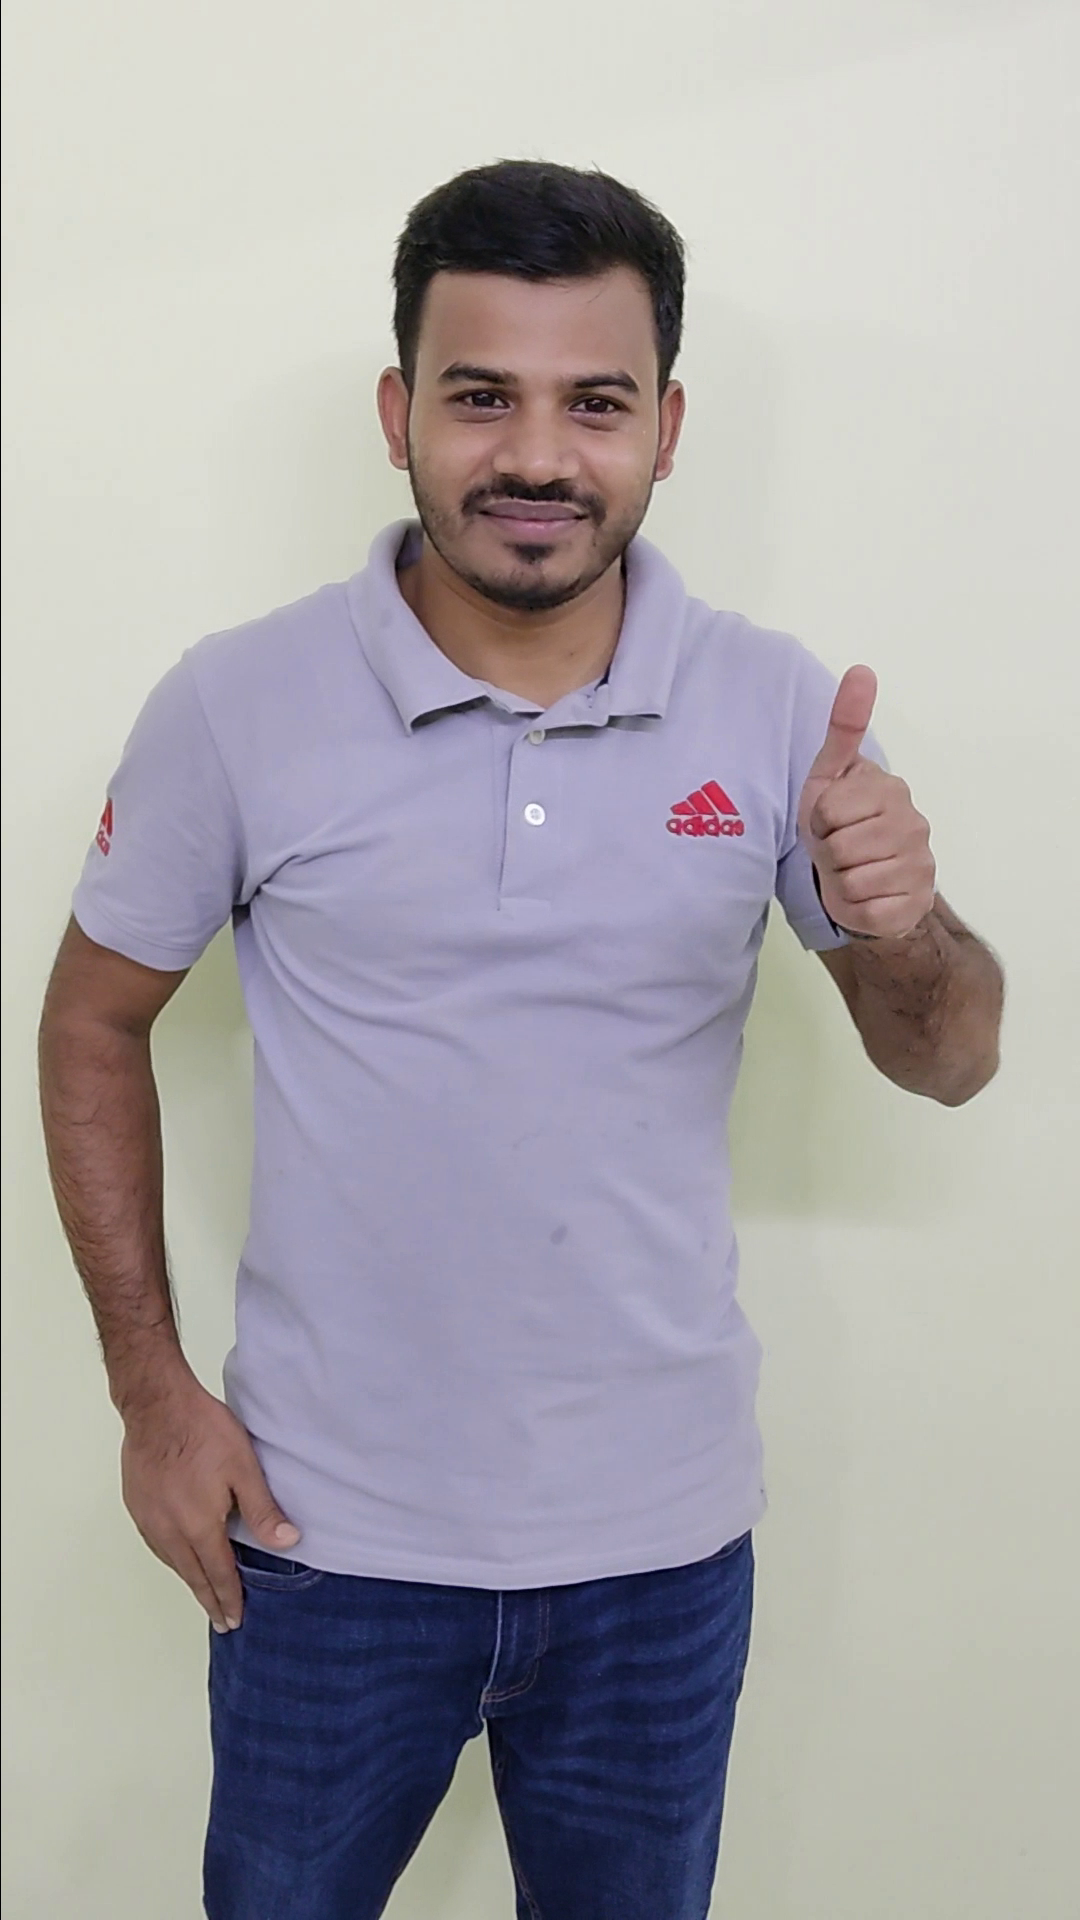Like: (756, 640, 980, 967)
None: (95, 1352, 314, 1643)
